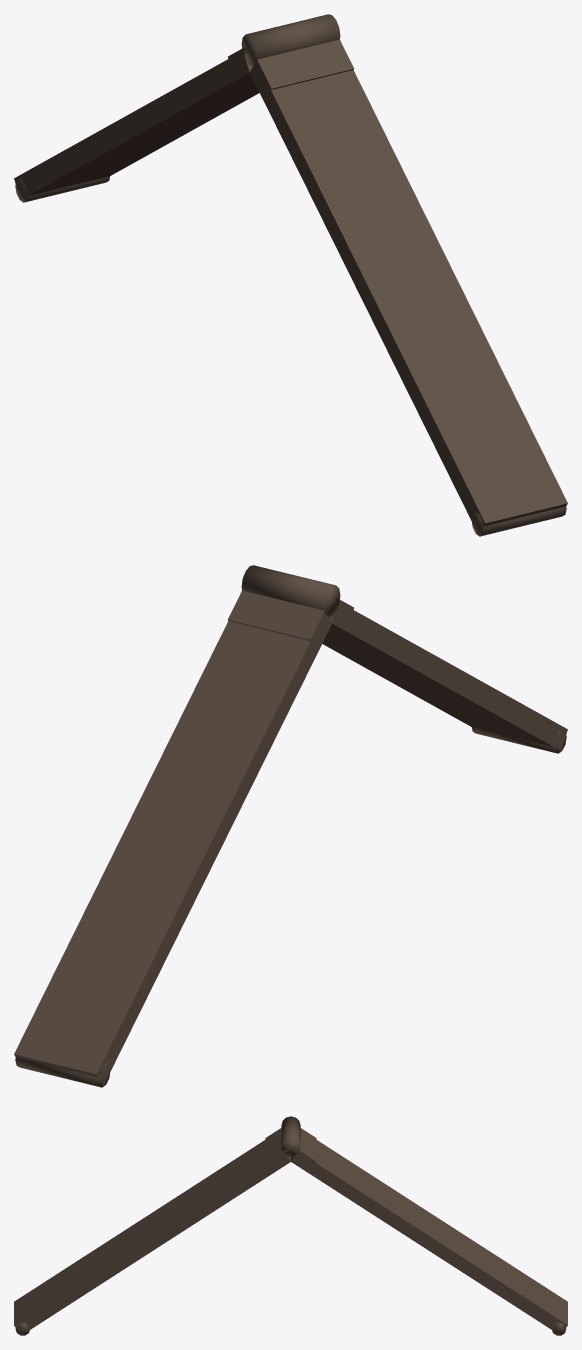
Rendered from kit_timber_thatch_w9.glb.
The picture shows the model from 3 angles, top to bottom: view 1: azimuth 30°, elevation 25°; view 2: azimuth 150°, elevation 25°; view 3: azimuth 270°, elevation 25°; orthographic projection. The views are drawn at different scales.
Parts seen in each view (by area): view 1: kit_timber_thatch_w9; view 2: kit_timber_thatch_w9; view 3: kit_timber_thatch_w9.
Part boxes in pixels (bbox=[...]): kit_timber_thatch_w9: bbox=[14, 14, 567, 536]; kit_timber_thatch_w9: bbox=[14, 565, 567, 1087]; kit_timber_thatch_w9: bbox=[14, 1116, 567, 1335].
Size of the model in its own units: 1 by 3.85 by 9.88.
